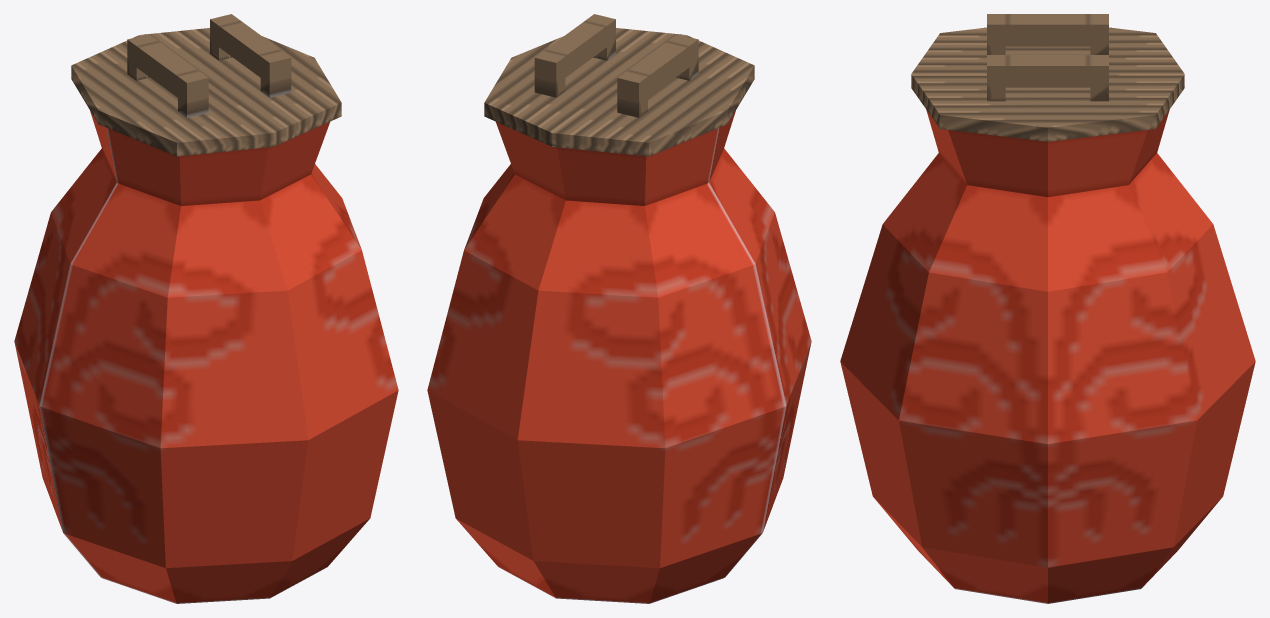
File: Jarron_Textured.FBX
3 views of the same model, side by side, from view 1: azimuth 30°, elevation 25°; view 2: azimuth 150°, elevation 25°; view 3: azimuth 270°, elevation 25° (orthographic). The views are drawn at different scales.
Parts seen in each view (by area): view 1: Jarron, Tapa; view 2: Jarron, Tapa; view 3: Jarron, Tapa.
Part boxes in pixels (x1,y1,x2,y2): Jarron: [14, 111, 398, 603]; Tapa: [71, 14, 341, 156]; Jarron: [427, 111, 811, 603]; Tapa: [484, 14, 754, 156]; Jarron: [840, 110, 1255, 603]; Tapa: [911, 14, 1184, 141].
Bounding box in the file's own units: 178 × 256 × 188.
